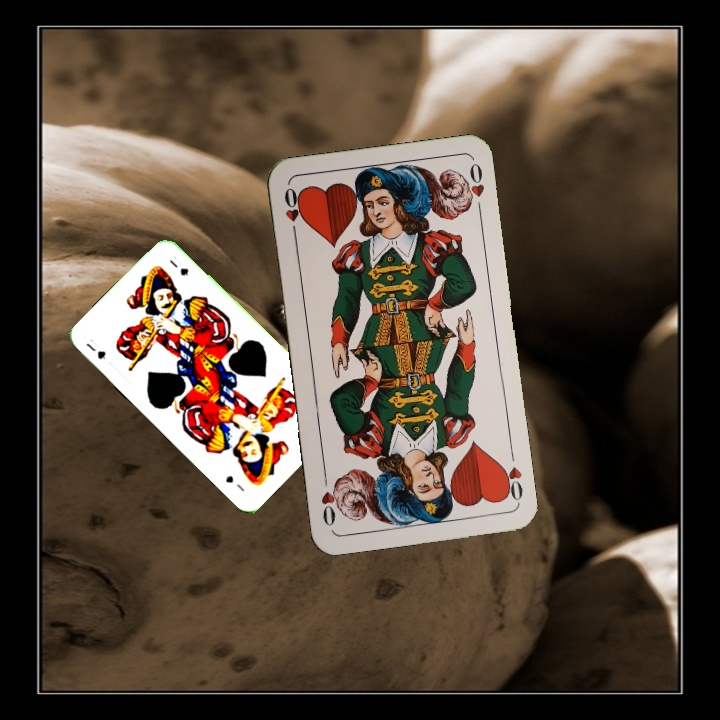GU: (82, 335, 109, 362)
HO: (280, 183, 305, 241), (496, 460, 526, 505)
